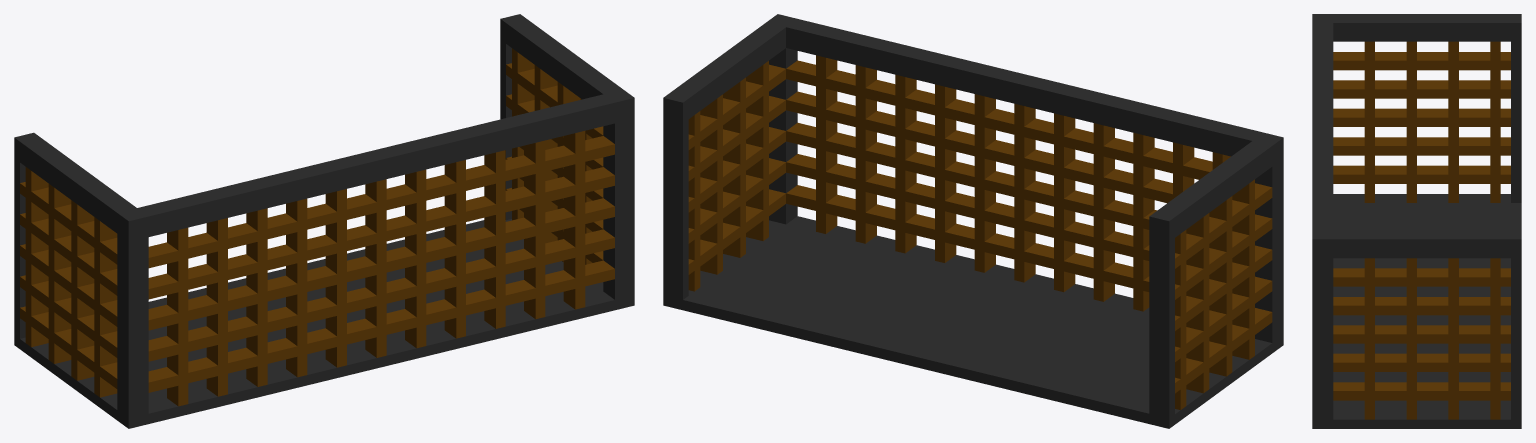
Rendered from balcony_brown_boxes.fbx.
The picture shows the model from 3 angles, left to right: view 1: azimuth 30°, elevation 25°; view 2: azimuth 150°, elevation 25°; view 3: azimuth 270°, elevation 25°; orthographic projection. The views are drawn at different scales.
Parts seen in each view (by area): view 1: balcony_brown_box; view 2: balcony_brown_box; view 3: balcony_brown_box.
Part boxes in pixels (<box>): balcony_brown_box: <box>14,14,634,428</box>; balcony_brown_box: <box>663,14,1283,428</box>; balcony_brown_box: <box>1312,14,1521,428</box>.
Size of the model in its own units: 338 by 132 by 132.
